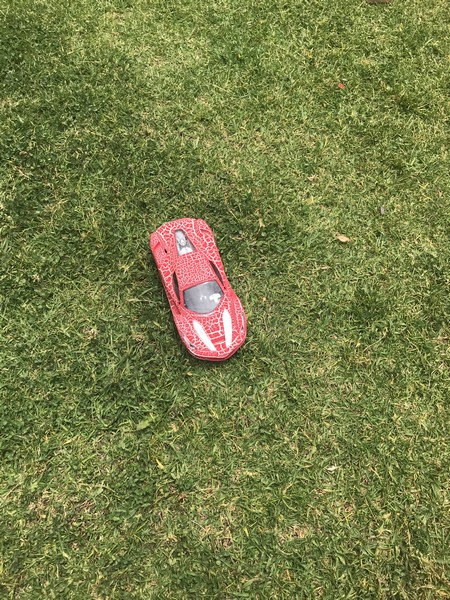RC: (145, 215, 251, 363)
